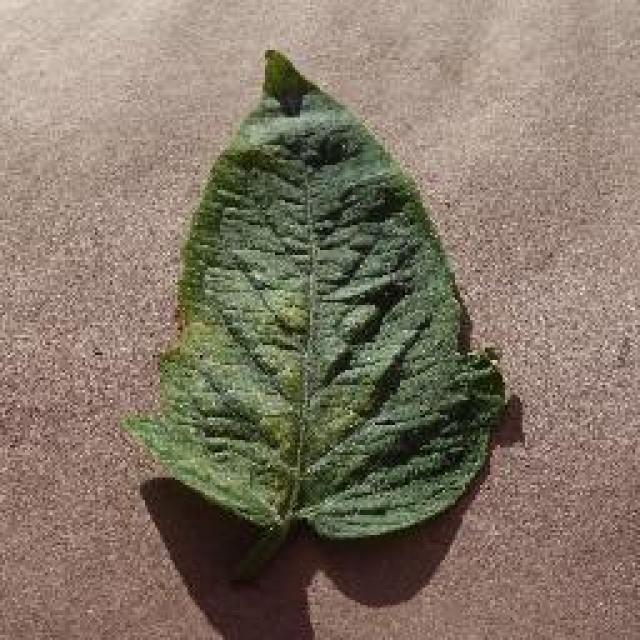Tomato mosaic virus leaf: (120, 42, 512, 550)
